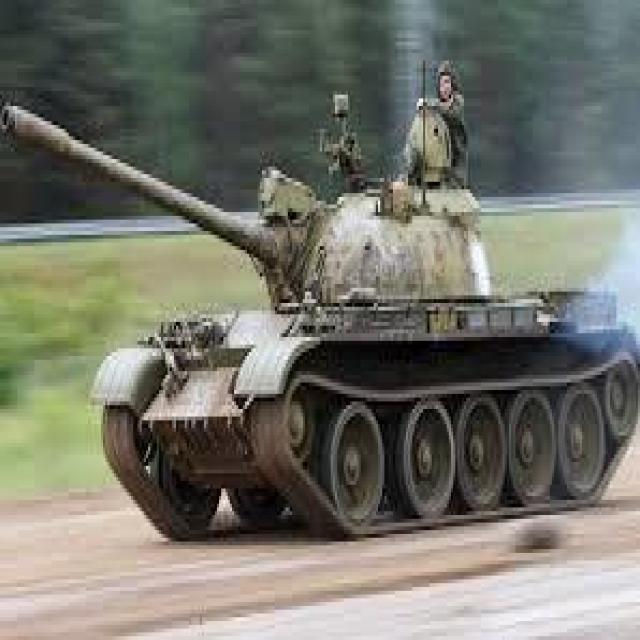MIL_MBT: (91, 169, 637, 540)
